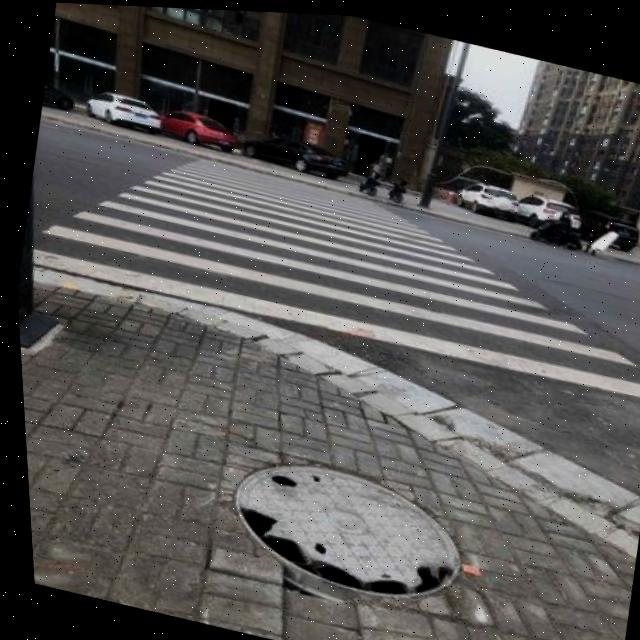manhole: (208, 440, 471, 614)
